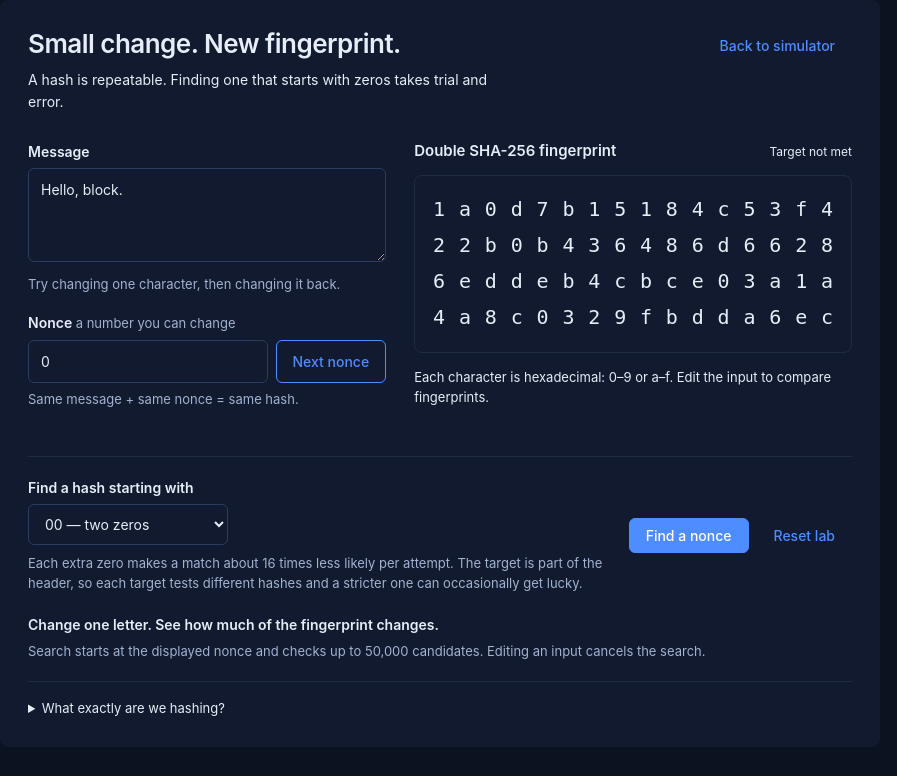
Scenario: HashLab independent interaction › invalidates a pending search on edit
Step 1. Replace the text in the text box labelled "Message" with "Stop experiment 264" → (207,215), box [28,168,386,262]
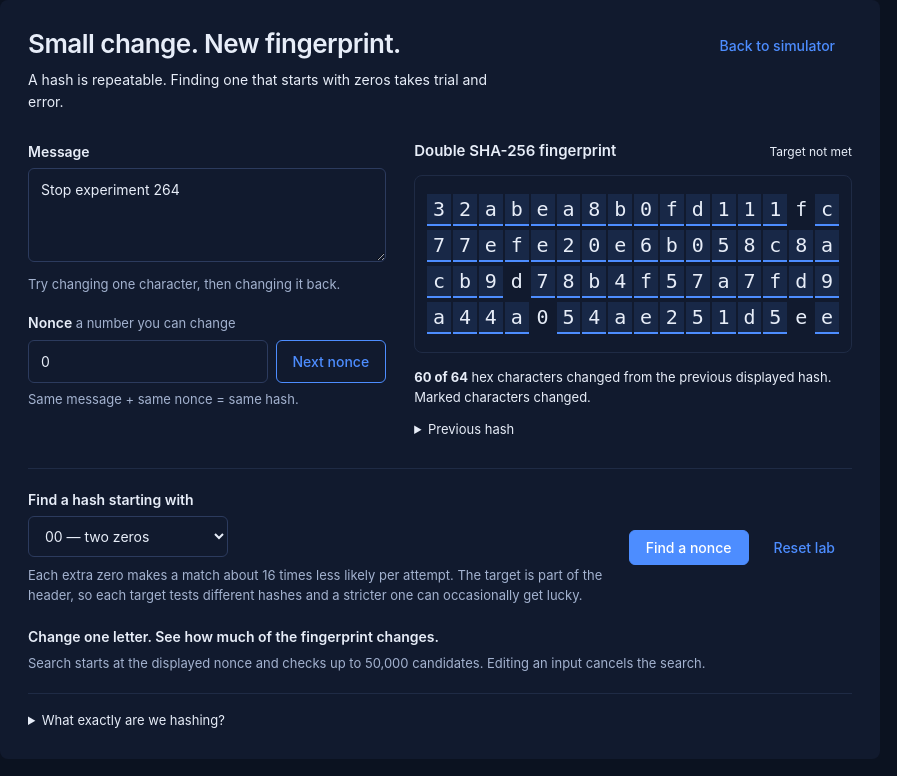
Step 2. Select "000 — three zeros" in the dropdown labelled "Find a hash starting with" → (128,537), box [28,516,228,557]
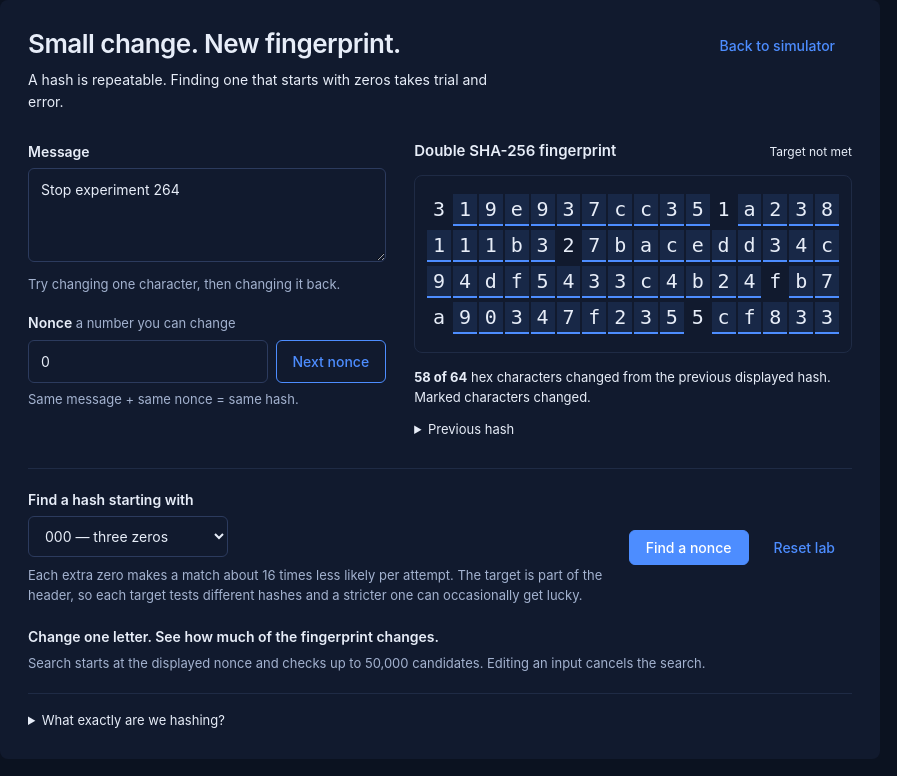
Step 3. Click the button "Find a nonce" → (689,547), box [629,530,748,565]
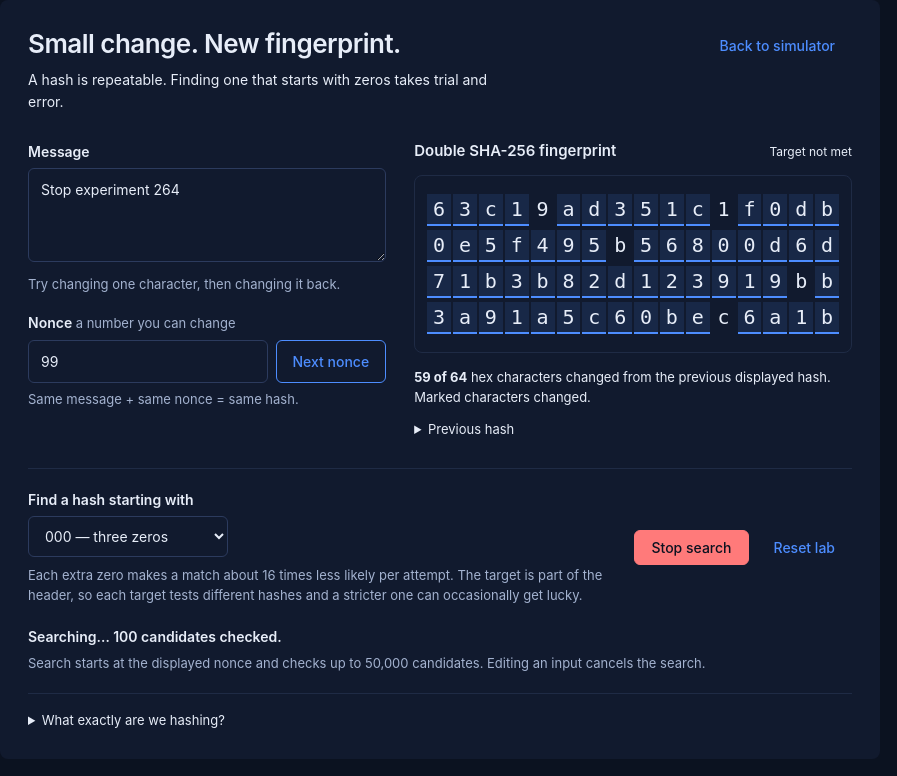
Expected: the field labelled "Nonce a number you can change" holds "99", [28,340,268,384]
Step 4. Replace the text in the text box labelled "Message" with "New experiment" → (207,215), box [28,168,386,262]
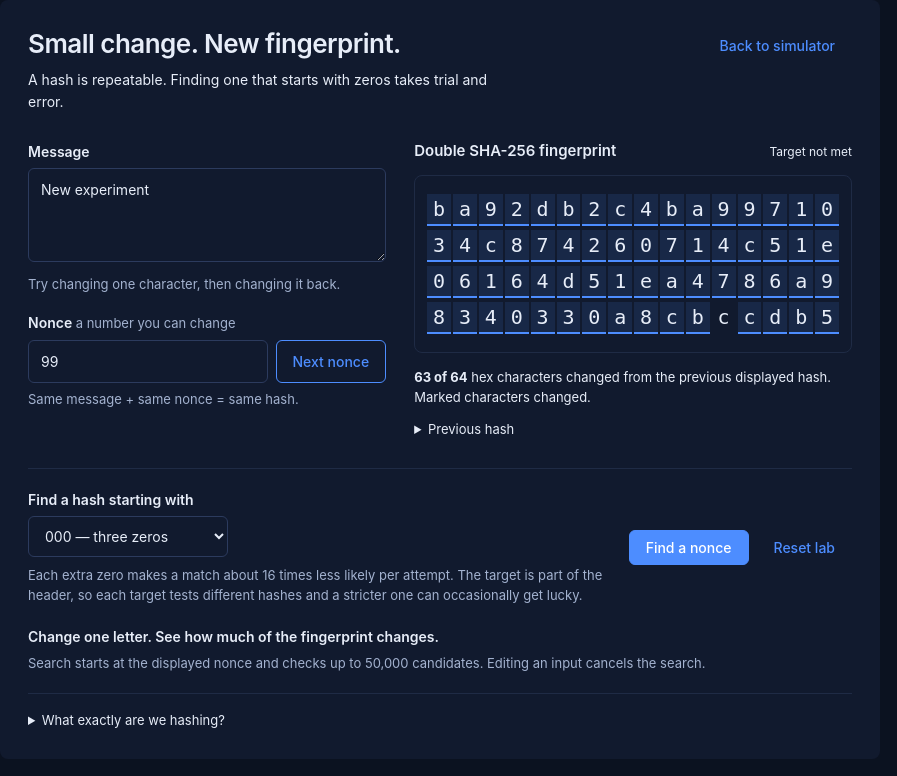
Expected: the message reads "Change one letter. See how much of the fingerprint changes.", [28,628,439,644]
Expected: the button "Stop search" is gone
